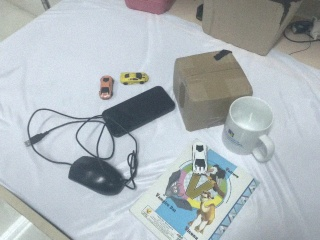book: (126, 140, 260, 240)
box: (173, 50, 253, 132), (200, 1, 313, 58)
cup: (222, 96, 276, 163)
mouse: (67, 154, 127, 197)
phone: (102, 86, 176, 138)
toy_car: (191, 141, 210, 178), (120, 71, 149, 86), (99, 75, 114, 100)
